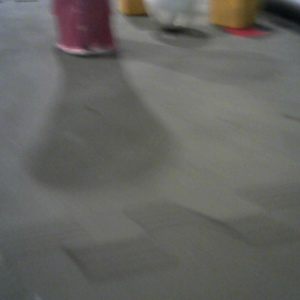middle: (54, 1, 118, 56)
